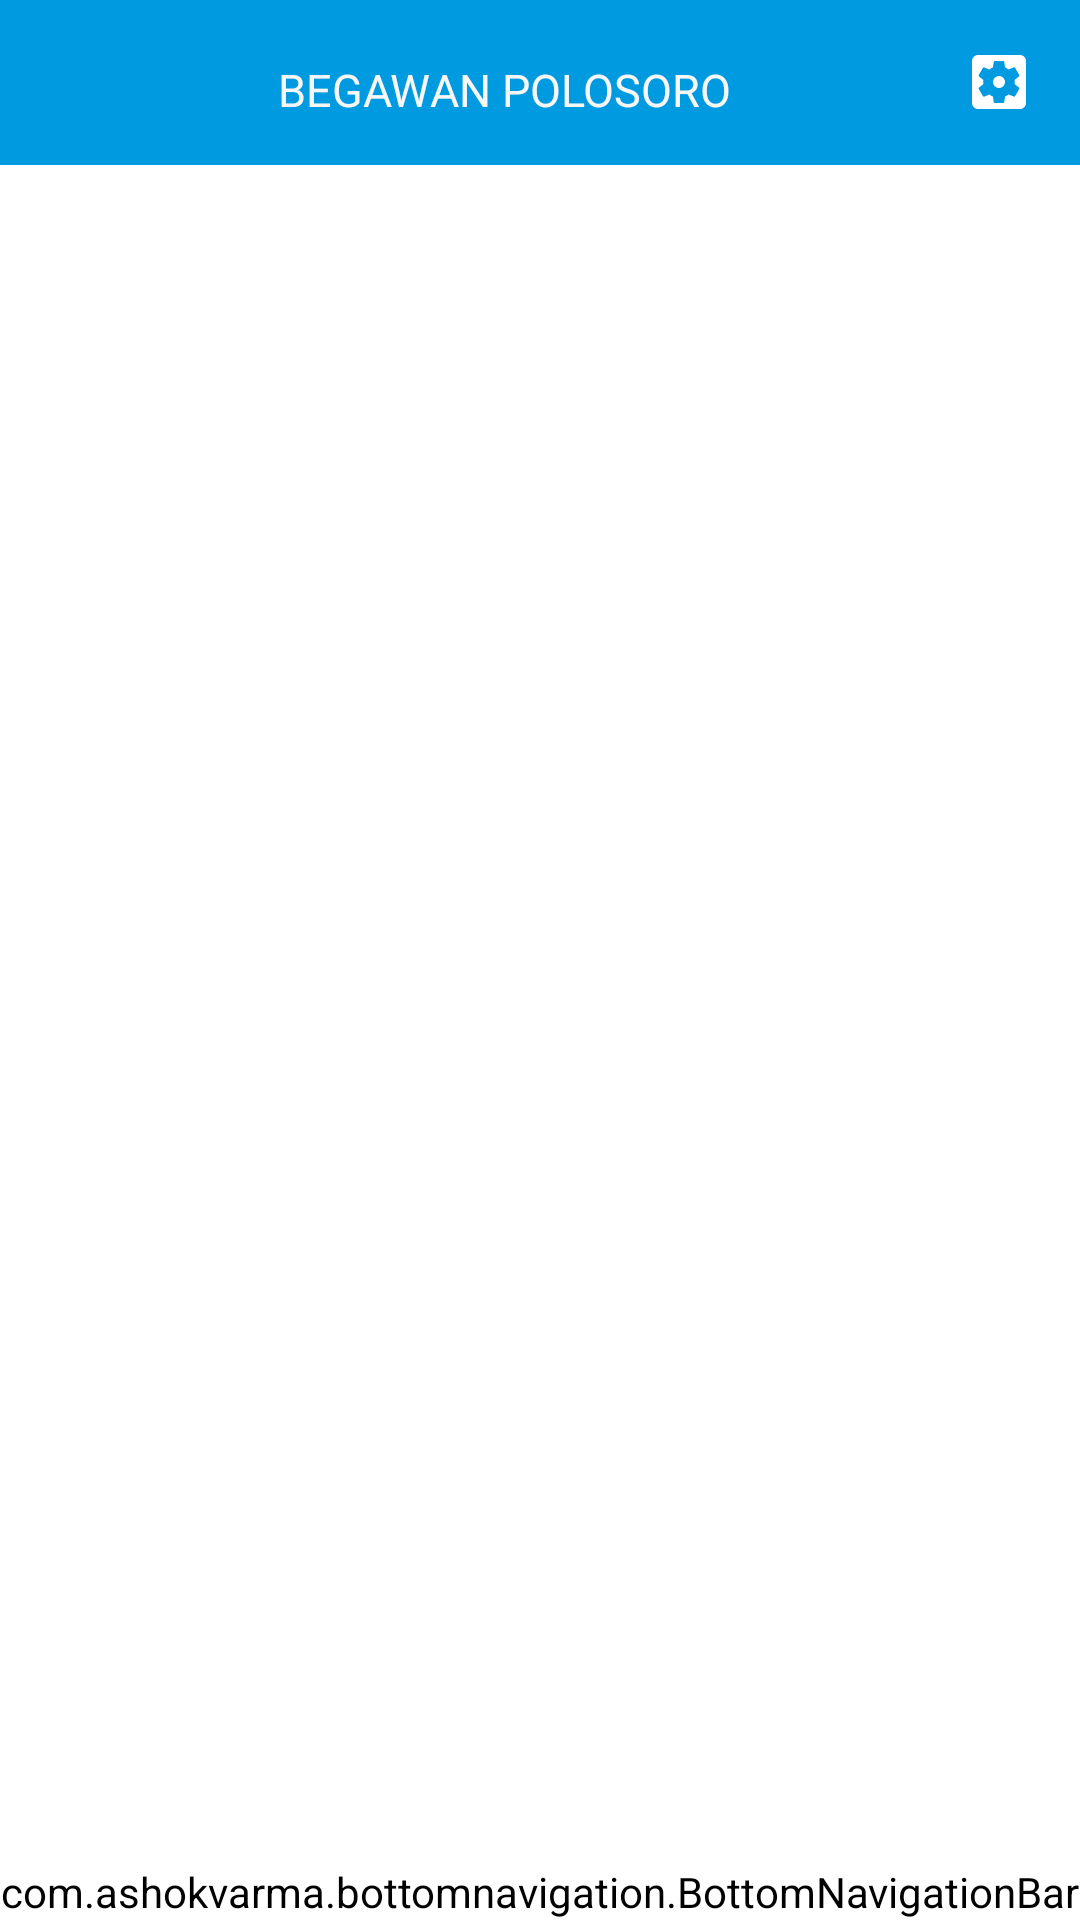

Icons on this 1080 x 1920 Android screen, each with its box as (x1, y1, x2, y2):
settings: (972, 55, 1026, 109)
